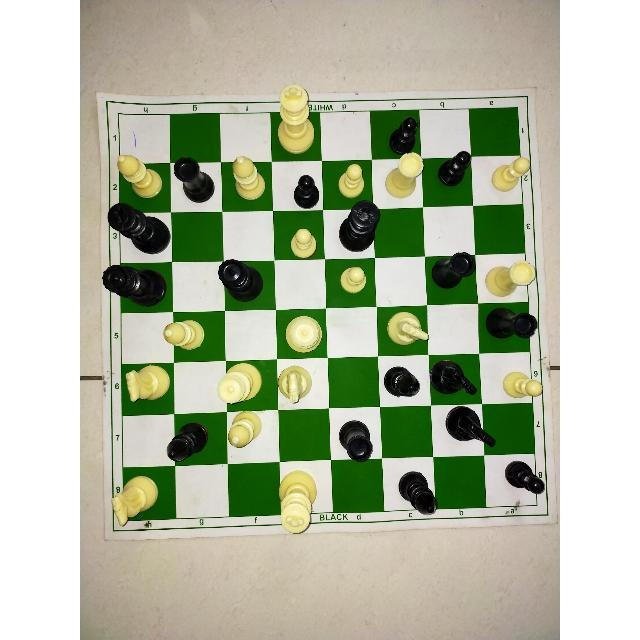black-bishop: (390, 465, 442, 519), (173, 416, 226, 465), (388, 462, 434, 506), (383, 363, 427, 405)
black-king: (102, 198, 175, 260), (335, 198, 384, 256), (118, 223, 168, 265), (340, 214, 371, 258)
black-knight: (436, 403, 502, 451), (427, 354, 487, 400), (434, 410, 486, 457), (437, 358, 481, 404)
black-pawn: (499, 460, 547, 508), (491, 459, 539, 506), (371, 114, 423, 153), (435, 144, 474, 192), (279, 168, 322, 210), (428, 160, 469, 199)
black-queen: (96, 258, 174, 310), (212, 253, 274, 310), (114, 268, 169, 310), (222, 264, 268, 310)
black-rook: (172, 149, 224, 208), (158, 418, 213, 468), (430, 245, 480, 295), (332, 414, 378, 466), (424, 259, 475, 303), (480, 306, 530, 349), (174, 165, 225, 206), (334, 411, 378, 456)
white-bishop: (111, 148, 169, 200), (158, 313, 212, 356), (223, 152, 269, 202), (225, 409, 270, 459), (121, 162, 167, 209), (228, 163, 272, 210), (175, 314, 223, 356), (237, 415, 274, 467)
white-king: (267, 75, 323, 161), (276, 460, 323, 539), (288, 465, 332, 521), (273, 112, 320, 160)
white-knight: (108, 471, 166, 532), (121, 467, 174, 521), (120, 363, 173, 414), (383, 307, 430, 355), (276, 362, 321, 408), (377, 312, 424, 354), (285, 362, 323, 410)
white-pawn: (278, 216, 329, 263), (497, 363, 549, 405), (485, 360, 534, 403), (484, 156, 521, 201), (332, 266, 373, 304), (332, 163, 364, 197)
white-queen: (210, 358, 267, 410), (227, 363, 277, 407), (281, 312, 325, 358), (279, 313, 327, 355)
white-rook: (481, 253, 539, 298), (381, 148, 426, 202), (383, 160, 424, 209), (483, 260, 524, 300)
